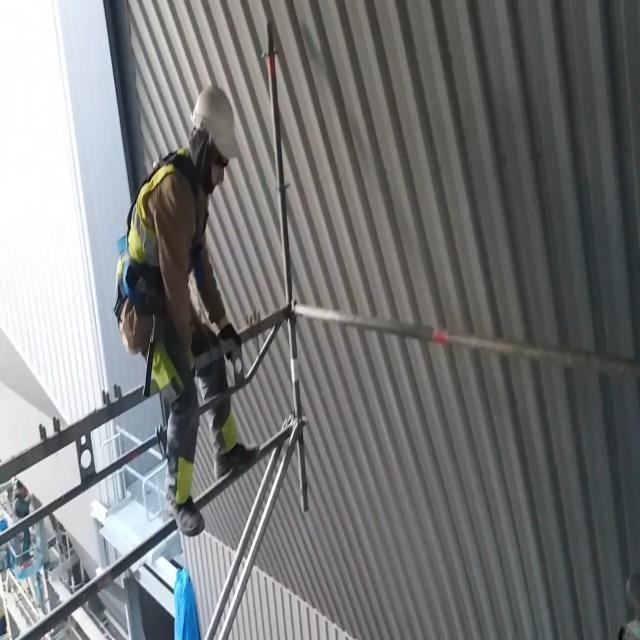Arnes_seguridad: (112, 121, 208, 350)
